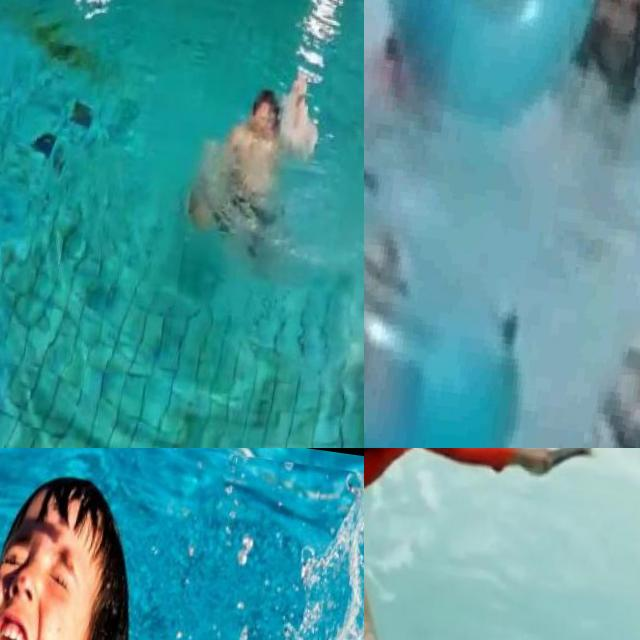drowning: (0, 448, 364, 640), (212, 53, 320, 241), (364, 10, 422, 179)
out of water: (364, 448, 640, 579)
swimming: (561, 0, 640, 130), (609, 230, 640, 448)
